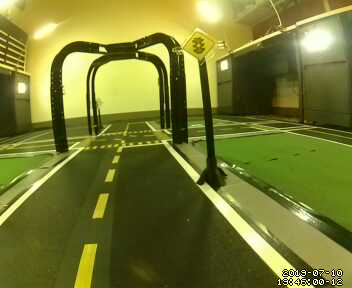Traffic light sign: (183, 28, 215, 62)
